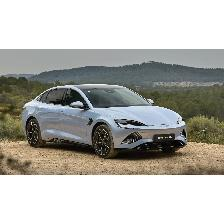EV: (24, 84, 189, 160)
